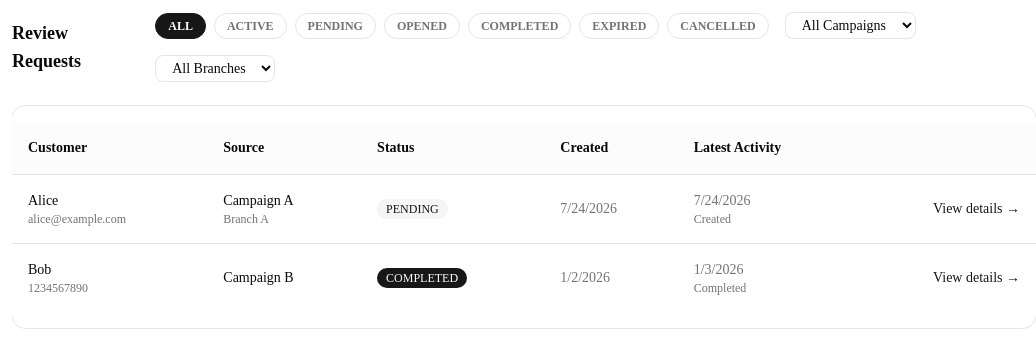
it: ReviewRequestTable › filters by branch
Select "Branch A" in the dropdown titled "Branch": [215, 68] box [155,55,275,82]
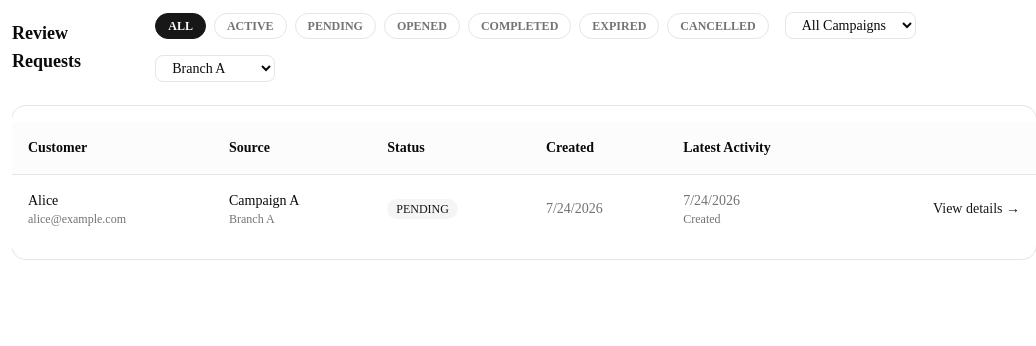
Expected: the text "Alice" is shown, [28,193,58,208]
Expected: the text "Bob" is gone
